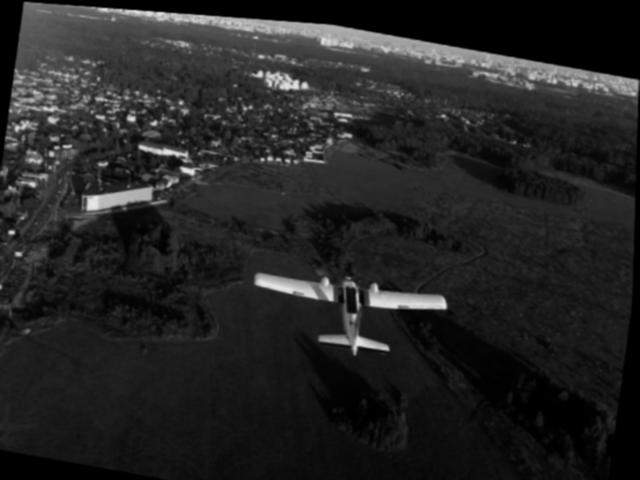hedef: (237, 244, 457, 368)
